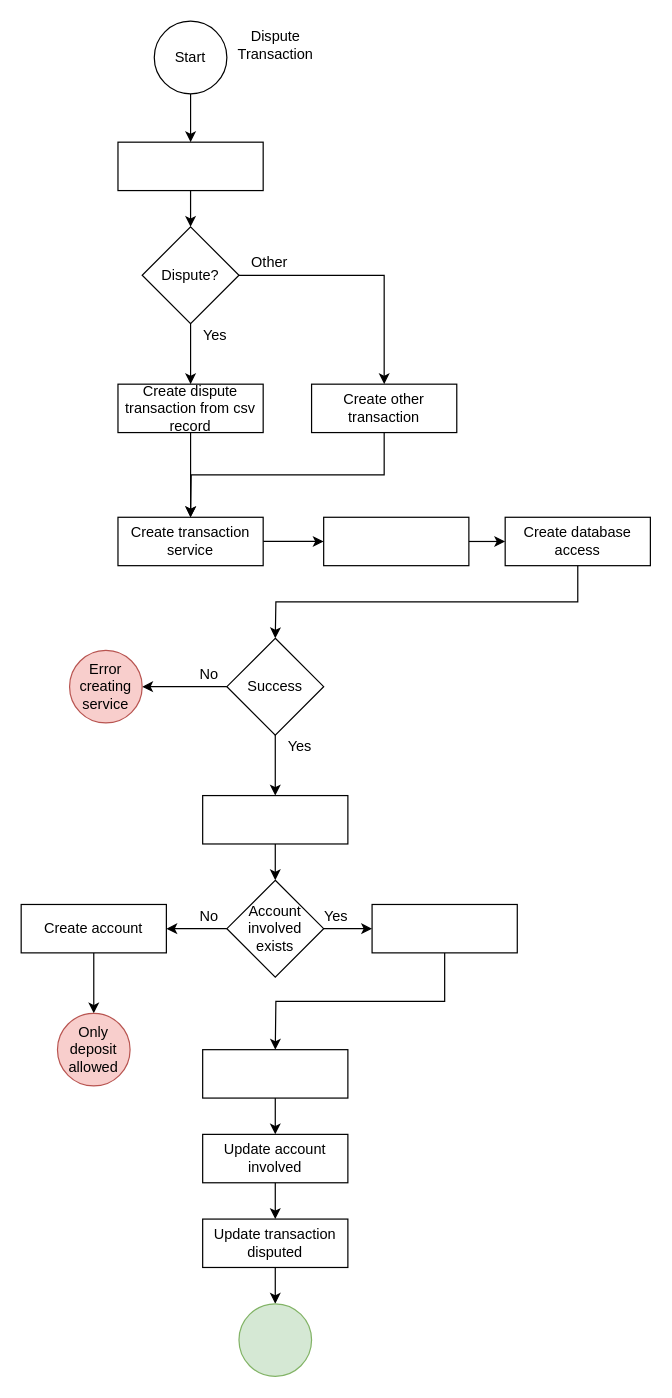
The diagram is 672 pixels wide and 1398 high, and some of its shapes have lost their labels. Here are the shapes that lost their labels. From the top down, the centre of each, then its label:
point 190,166: Process csv entry
point 395,541: Create transaction and account repositories
point 274,819: Process transaction
point 444,928: Get account from db
point 274,1073: Process dispute
point 275,1339: Done
